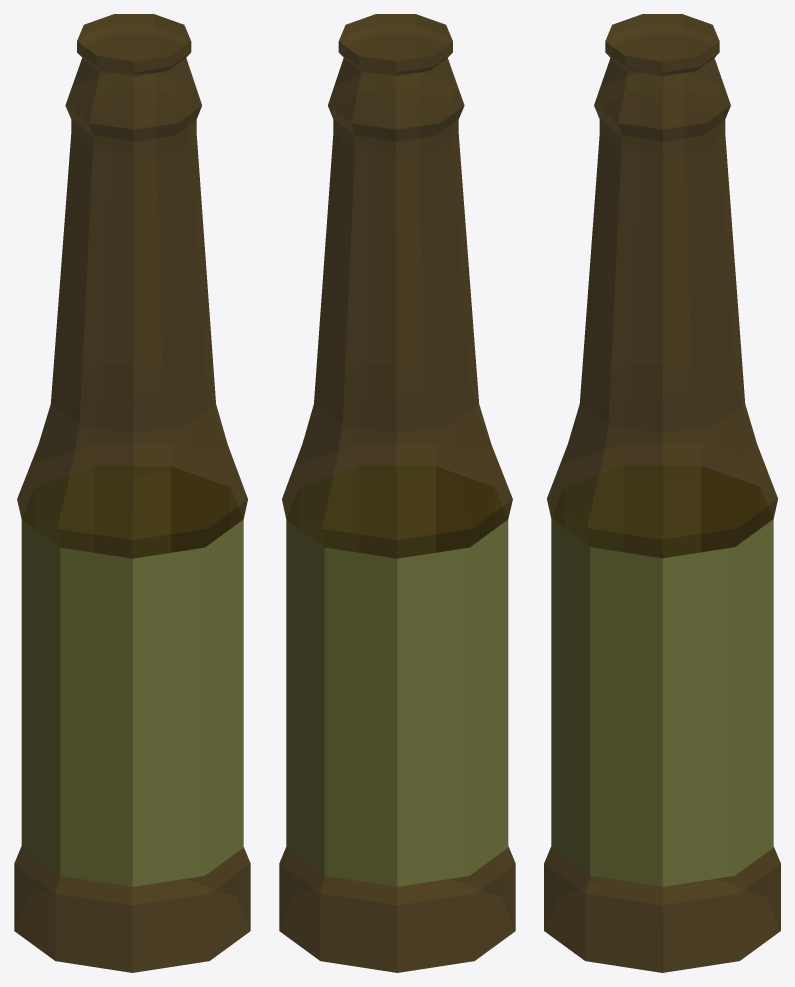
The model's file is Beer_Bottle.fbx.
3 views of the same model, side by side, from view 1: azimuth 30°, elevation 25°; view 2: azimuth 150°, elevation 25°; view 3: azimuth 270°, elevation 25° (orthographic).
Visible parts, largest first — view 1: Beer_Bottle; view 2: Beer_Bottle; view 3: Beer_Bottle.
Part boxes in pixels (x1,y1,x2,y2): Beer_Bottle: (14, 14, 250, 972); Beer_Bottle: (279, 14, 515, 972); Beer_Bottle: (544, 14, 780, 972).
Bounding box in the file's own units: 0.2459 × 1.03 × 0.2497.
